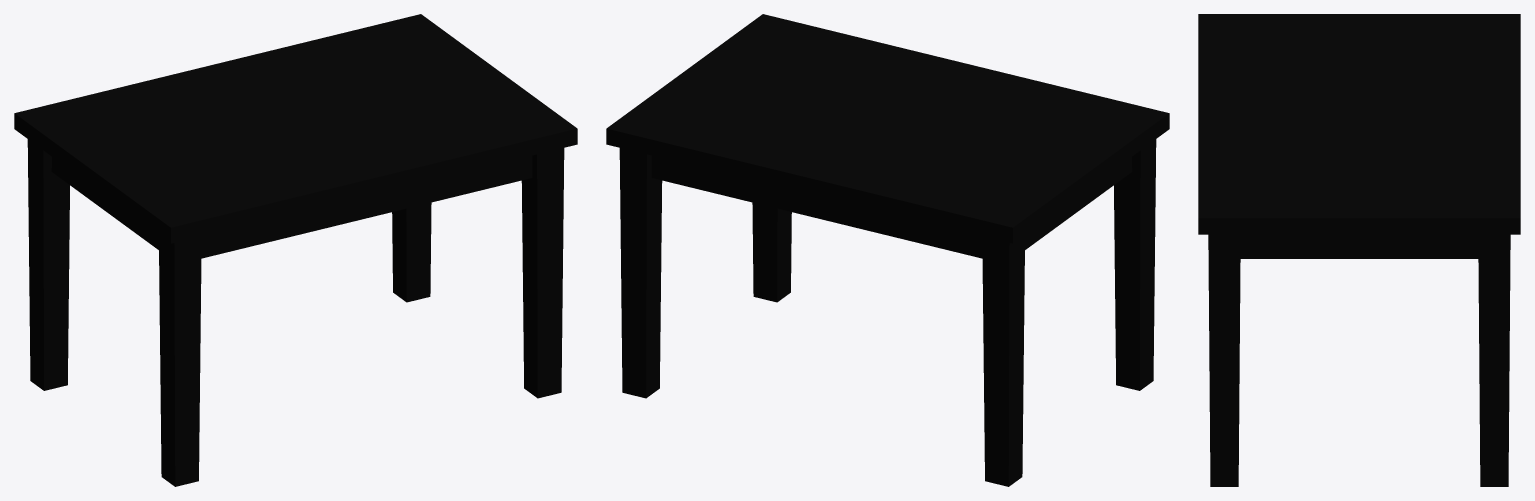
Rendered from SM_table_pine.fbx.
3 views of the same model, side by side, from view 1: azimuth 30°, elevation 25°; view 2: azimuth 150°, elevation 25°; view 3: azimuth 270°, elevation 25° (orthographic). The views are drawn at different scales.
Visible parts, largest first — view 1: table_pine; view 2: table_pine; view 3: table_pine.
Boxes of the visible parts, left/top/right/bottom form: table_pine: left=14, top=14, right=577, bottom=486; table_pine: left=606, top=14, right=1169, bottom=486; table_pine: left=1198, top=14, right=1520, bottom=486.
Size of the model in its own units: 1.2 by 0.75 by 0.8.
